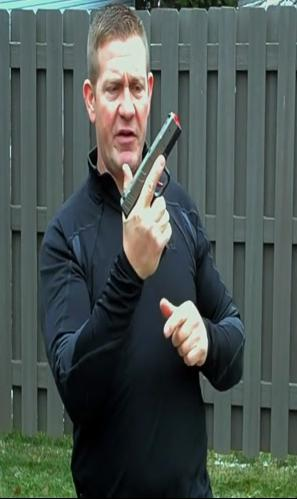pistol: (115, 111, 184, 259)
